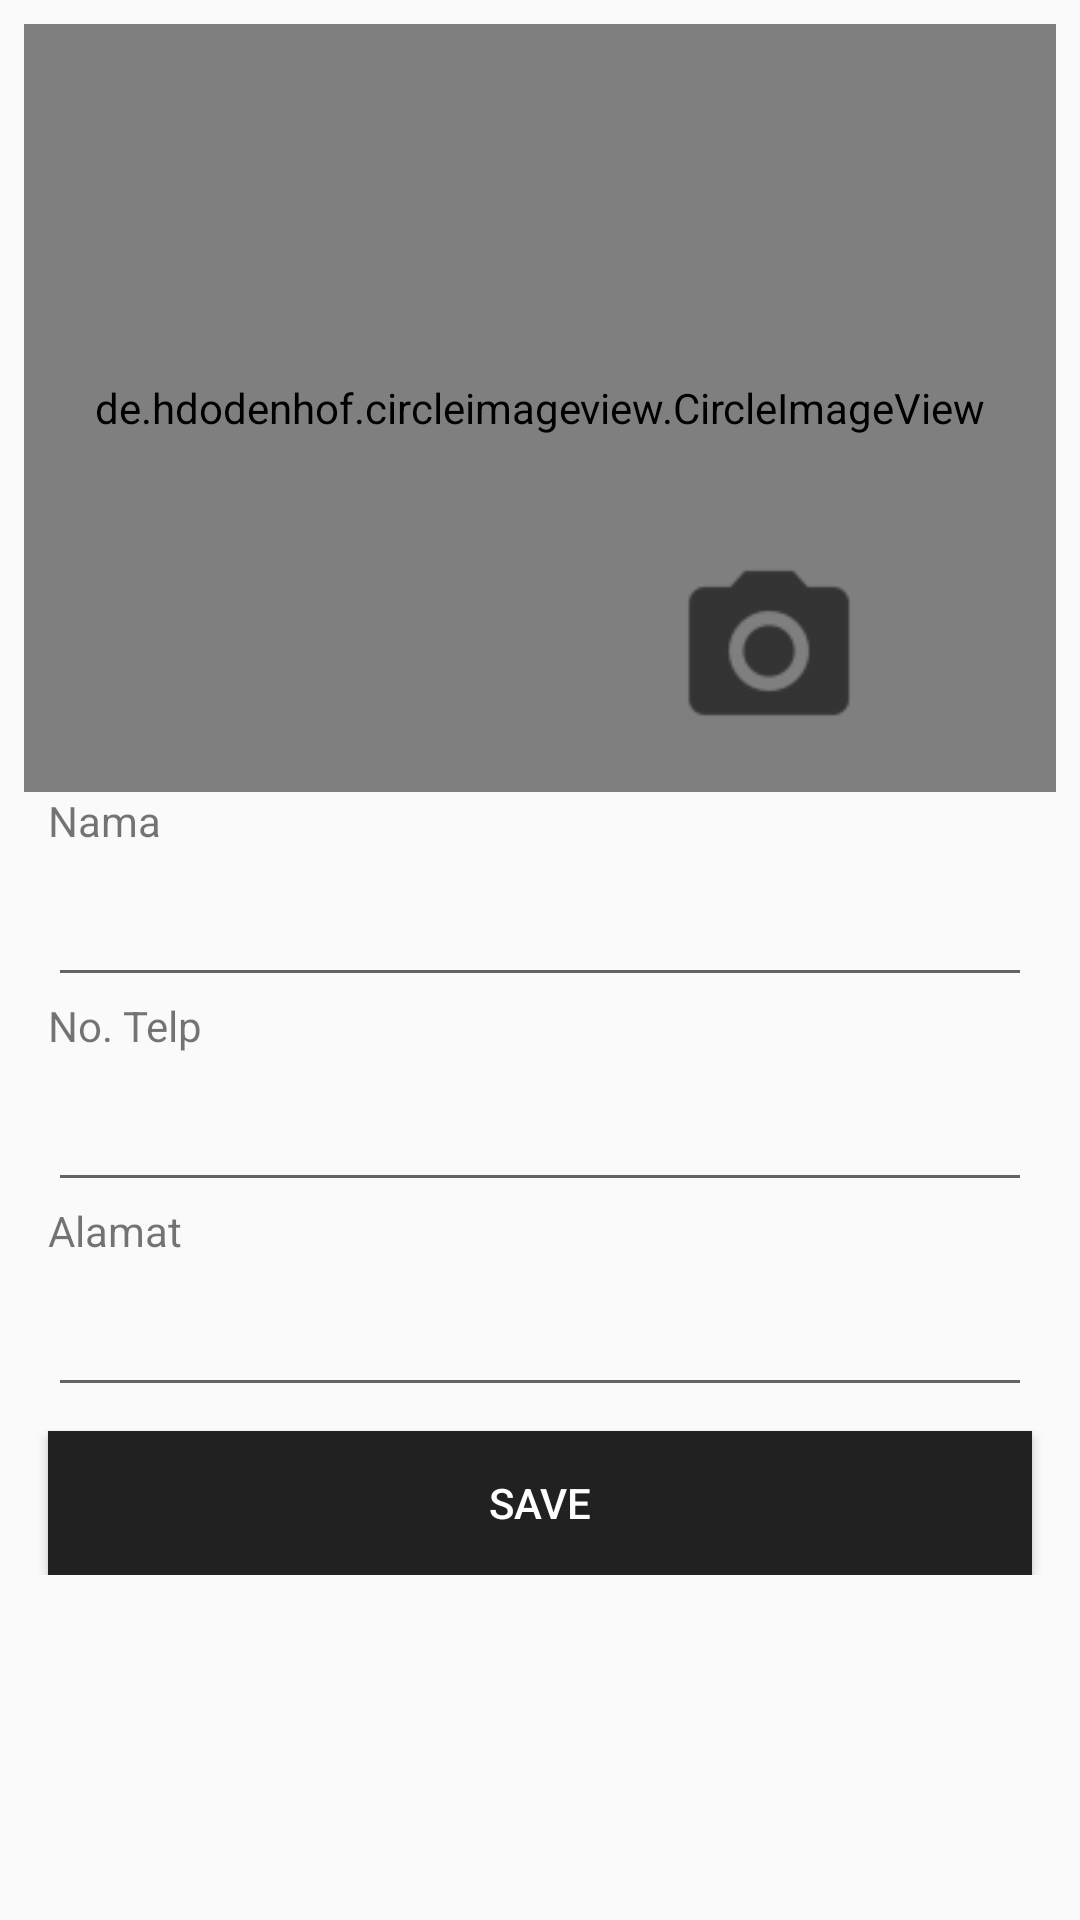

Screen size 1080px x 1920px. Icon name, then its center in pixels as (x,y):
camera: (769,643)
